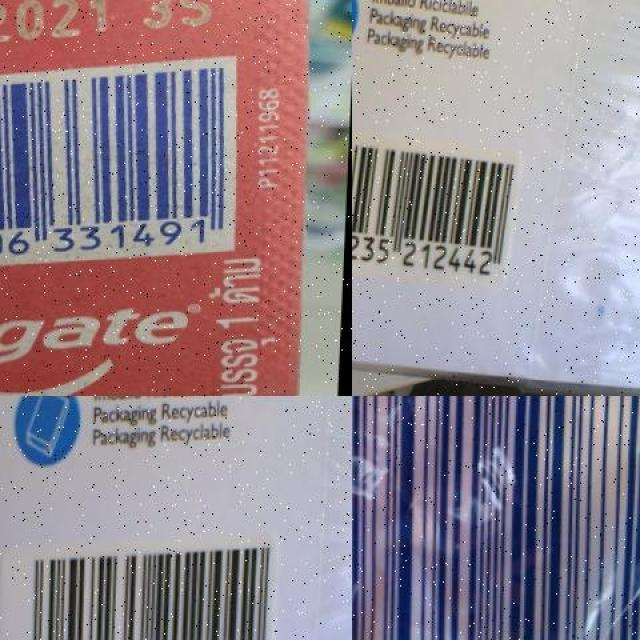Barcode: (352, 396, 640, 640), (0, 60, 247, 272), (352, 113, 528, 307), (0, 534, 280, 640)
